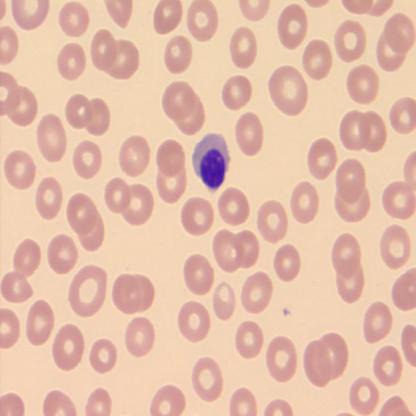NRC: (191, 133, 231, 191)
